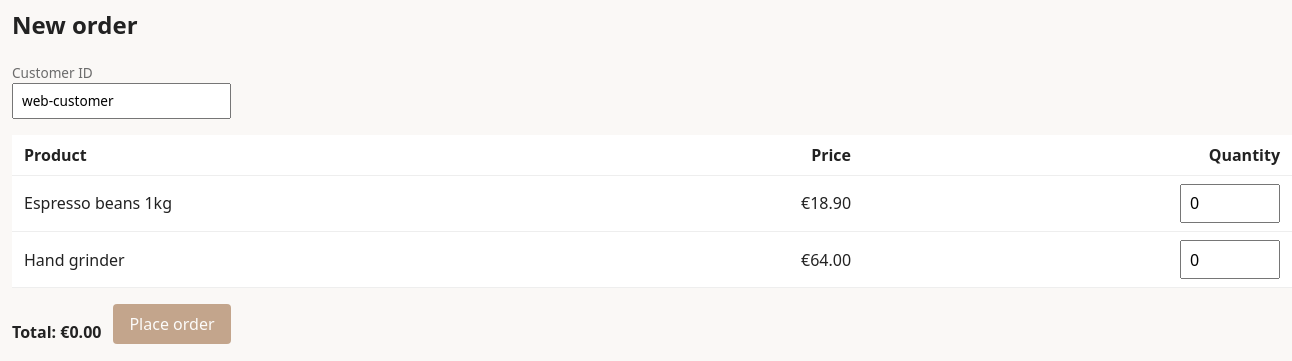
Test: OrderFormPage › updates the total as quantities change
Replace the text in the number field named "Quantity of Espresso beans 1kg" with "2" at x=1230, y=203, box [1180,184,1280,223]
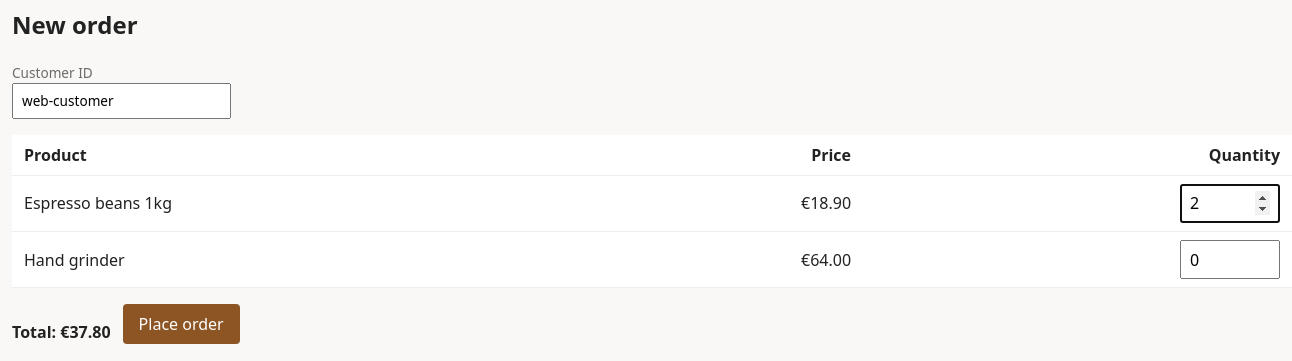
Now the text with test id "order-total" shows "€37.80", box [60,321,111,343]
